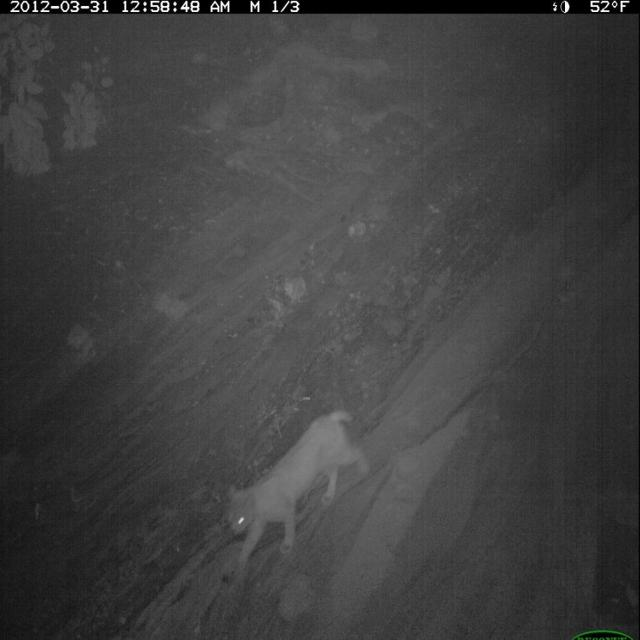bobcat: (225, 407, 369, 575)
